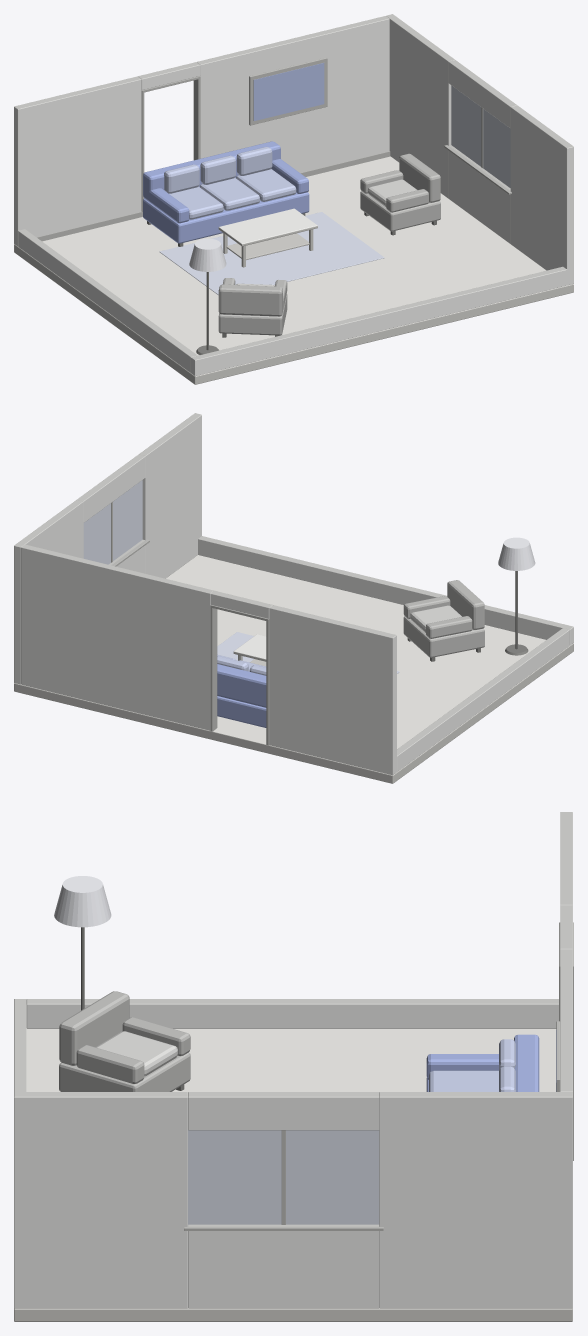
The model's file is room.glb.
The picture shows the model from 3 angles, top to bottom: view 1: azimuth 30°, elevation 25°; view 2: azimuth 150°, elevation 25°; view 3: azimuth 270°, elevation 25°; orthographic projection. The views are drawn at different scales.
Visible parts, largest first — view 1: slab, wall_back_r, wall_back_l, wall_right_b, wall_right_a, wall_front, rug, wall_left, window_glass, wall_right_sill, sofa_base, art (+25 smaller); view 2: wall_back_r, slab, wall_back_l, wall_right_b, wall_front, wall_left, window_glass, wall_right_a, wall_right_head, chair_south_base, sofa_back, chair_south_back (+11 smaller); view 3: wall_right_a, wall_right_b, slab, window_glass, wall_right_sill, wall_left, wall_right_head, chair_south_back, chair_south_base, lamp_shade, wall_back_r, chair_south_seat (+8 smaller).
Part boxes in pixels (box(x1,y1,x2,y2)): slab: box(14, 156, 573, 384); wall_back_r: box(197, 16, 389, 172); wall_back_l: box(14, 76, 141, 246); wall_right_b: box(510, 105, 573, 283); wall_right_a: box(386, 14, 454, 198); wall_front: box(191, 266, 573, 376); rug: box(159, 212, 384, 294); wall_left: box(18, 229, 197, 372); window_glass: box(451, 85, 510, 187); wall_right_sill: box(448, 145, 510, 243); sofa_base: box(143, 192, 309, 243); art: box(253, 63, 324, 120); wall_back_r: box(21, 544, 213, 730); slab: box(14, 555, 573, 783); wall_back_l: box(269, 605, 396, 775); wall_right_b: box(139, 413, 201, 578); wall_front: box(198, 536, 573, 645); wall_left: box(397, 628, 569, 771); window_glass: box(83, 480, 142, 564); wall_right_a: box(14, 500, 83, 684); wall_right_head: box(77, 454, 145, 522); chair_south_base: box(403, 616, 484, 657); sofa_back: box(217, 664, 266, 707); chair_south_back: box(447, 580, 484, 629); wall_right_a: box(379, 1092, 572, 1308); wall_right_b: box(14, 1092, 187, 1308); slab: box(14, 1028, 572, 1321); window_glass: box(188, 1130, 379, 1224); wall_right_sill: box(188, 1224, 379, 1308); wall_left: box(26, 999, 558, 1028); wall_right_head: box(188, 1092, 379, 1130); chair_south_back: box(59, 991, 129, 1065); chair_south_base: box(59, 1052, 190, 1091); lamp_shade: box(54, 876, 111, 927); wall_back_r: box(560, 949, 572, 1091); chair_south_seat: box(96, 1031, 177, 1076).
Bounding box in the file's own units: 6.38 × 2.34 × 5.27.
